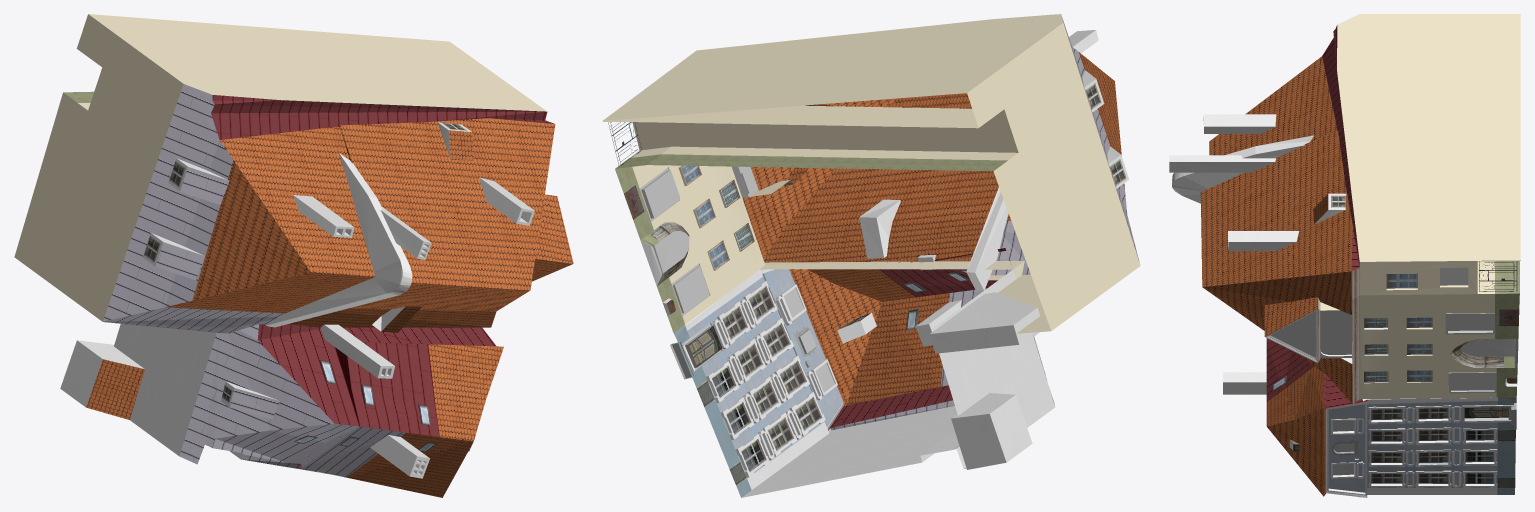
The model's file is Pikk_55.obj.
The picture shows the model from 3 angles, left to right: view 1: azimuth 30°, elevation 25°; view 2: azimuth 150°, elevation 25°; view 3: azimuth 270°, elevation 25°; orthographic projection. The views are drawn at different scales.
Visible parts, largest first — view 1: Pikk_55; view 2: Pikk_55; view 3: Pikk_55.
Boxes of the visible parts, x1,y1,x2,y2 form: Pikk_55: (14,14,573,497); Pikk_55: (602,14,1140,497); Pikk_55: (1169,14,1520,497).
Size of the model in its own units: 27.93 by 27.61 by 22.63.
